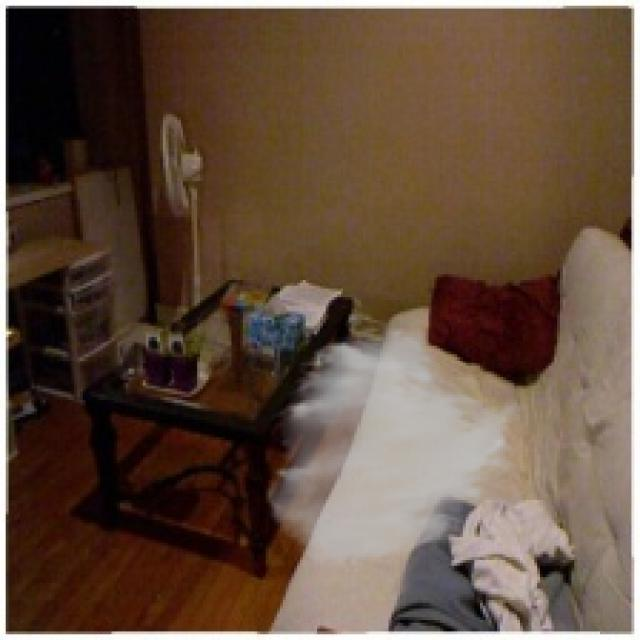Smoke: (263, 322, 526, 568)
